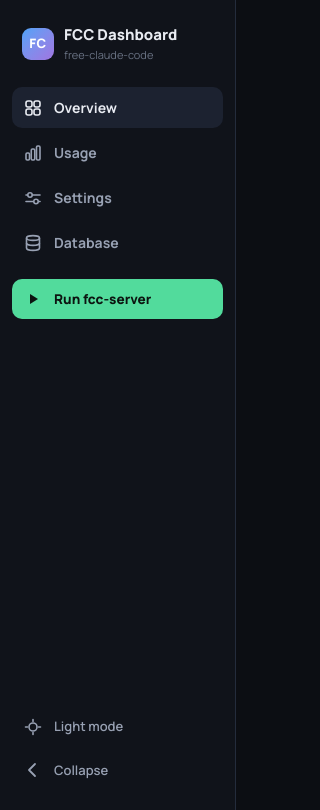
Sidebar › collapses on toggle, dropping the visible text label from the nav buttons
Expected: the button "Overview" is shown, [12,87,223,128]
What coordinates should you click on to do the following:
click the button "Collapse"
I would click on:
 (118, 770)
Its box is [12,750,223,790].
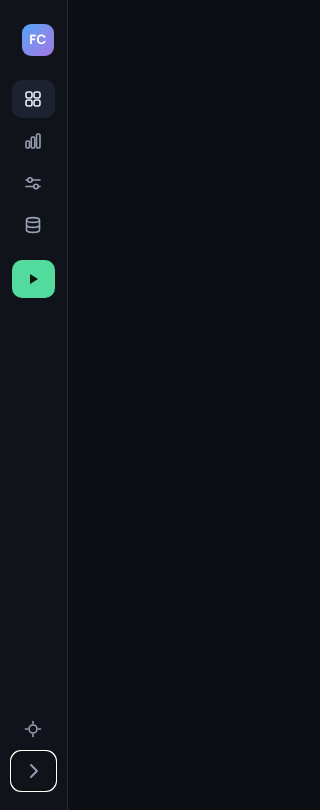
Now the button named "overview" no longer shows "Overview", box [12,80,55,118]
